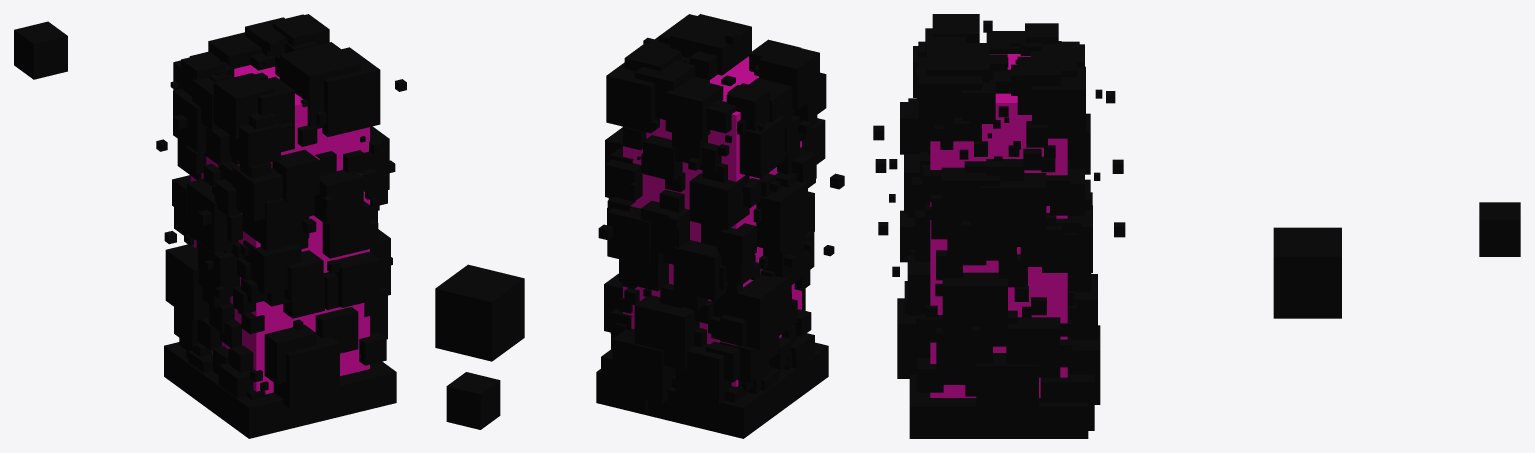
File: glitch cube.obj
The picture shows the model from 3 angles, left to right: view 1: azimuth 30°, elevation 25°; view 2: azimuth 150°, elevation 25°; view 3: azimuth 270°, elevation 25°; orthographic projection. The views are drawn at different scales.
Visible parts, largest first — view 1: Platform_Cube.010, building.001_Cube.003, big_cube.016_Cube.035, big_cube.017_Cube.036, big_cube.009_Cube.027, small_distance_cube.001_Cube.006, big_cube.045_Cube.073, big_cube.006_Cube.024, big_cube.022_Cube.043, big_cube.023_Cube.044, big_cube.030_Cube.054, small_distance_cube.002_Cube.009 (+42 smaller); view 2: big_cube.001_Cube.005, Platform_Cube.010, building.001_Cube.003, big_cube.045_Cube.073, big_cube.089_Cube.130, big_cube.072_Cube.108, big_cube.009_Cube.027, big_cube.030_Cube.054, big_cube.053_Cube.081, small_distance_cube.001_Cube.006, big_cube.006_Cube.024, big_cube.081_Cube.119 (+37 smaller); view 3: building.001_Cube.003, big_cube.001_Cube.005, Platform_Cube.010, big_cube.050_Cube.078, big_cube.060_Cube.090, big_cube.052_Cube.080, big_cube.016_Cube.035, big_cube.053_Cube.081, big_cube.063_Cube.094, big_cube.058_Cube.087, small_distance_cube.001_Cube.006, big_cube.009_Cube.027 (+27 smaller).
Part boxes in pixels (x1=…): Platform_Cube.010: x1=164, y1=342, x2=396, y2=438; building.001_Cube.003: x1=190, y1=65, x2=369, y2=394; big_cube.016_Cube.035: x1=322, y1=47, x2=380, y2=136; big_cube.017_Cube.036: x1=273, y1=335, x2=339, y2=408; big_cube.009_Cube.027: x1=279, y1=42, x2=361, y2=128; small_distance_cube.001_Cube.006: x1=14, y1=21, x2=67, y2=79; big_cube.045_Cube.073: x1=165, y1=244, x2=209, y2=320; big_cube.006_Cube.024: x1=213, y1=73, x2=274, y2=139; big_cube.022_Cube.043: x1=242, y1=197, x2=309, y2=248; big_cube.023_Cube.044: x1=314, y1=170, x2=363, y2=224; big_cube.030_Cube.054: x1=186, y1=179, x2=238, y2=253; small_distance_cube.002_Cube.009: x1=156, y1=39, x2=406, y2=330; big_cube.001_Cube.005: x1=435, y1=264, x2=524, y2=361; Platform_Cube.010: x1=596, y1=342, x2=828, y2=438; building.001_Cube.003: x1=623, y1=56, x2=801, y2=386; big_cube.045_Cube.073: x1=711, y1=275, x2=787, y2=349; big_cube.089_Cube.130: x1=634, y1=295, x2=699, y2=370; big_cube.072_Cube.108: x1=612, y1=328, x2=675, y2=403; big_cube.009_Cube.027: x1=670, y1=14, x2=751, y2=75; big_cube.030_Cube.054: x1=756, y1=181, x2=807, y2=252; big_cube.053_Cube.081: x1=606, y1=62, x2=659, y2=133; small_distance_cube.001_Cube.006: x1=446, y1=372, x2=500, y2=429; big_cube.006_Cube.024: x1=759, y1=43, x2=819, y2=109; big_cube.081_Cube.119: x1=689, y1=173, x2=749, y2=229; building.001_Cube.003: x1=930, y1=54, x2=1067, y2=397; big_cube.001_Cube.005: x1=1273, y1=227, x2=1341, y2=318; Platform_Cube.010: x1=909, y1=374, x2=1088, y2=438; big_cube.050_Cube.078: x1=942, y1=272, x2=1007, y2=345; big_cube.060_Cube.090: x1=980, y1=173, x2=1046, y2=246; big_cube.052_Cube.080: x1=976, y1=353, x2=1038, y2=422; big_cube.016_Cube.035: x1=918, y1=57, x2=981, y2=141; big_cube.053_Cube.081: x1=1032, y1=66, x2=1085, y2=138; big_cube.063_Cube.094: x1=1006, y1=317, x2=1060, y2=377; big_cube.058_Cube.087: x1=941, y1=167, x2=1000, y2=233; small_distance_cube.001_Cube.006: x1=1479, y1=202, x2=1520, y2=256; big_cube.009_Cube.027: x1=926, y1=43, x2=989, y2=82.
Size of the model in its own units: 7.69 by 11.96 by 18.86.
